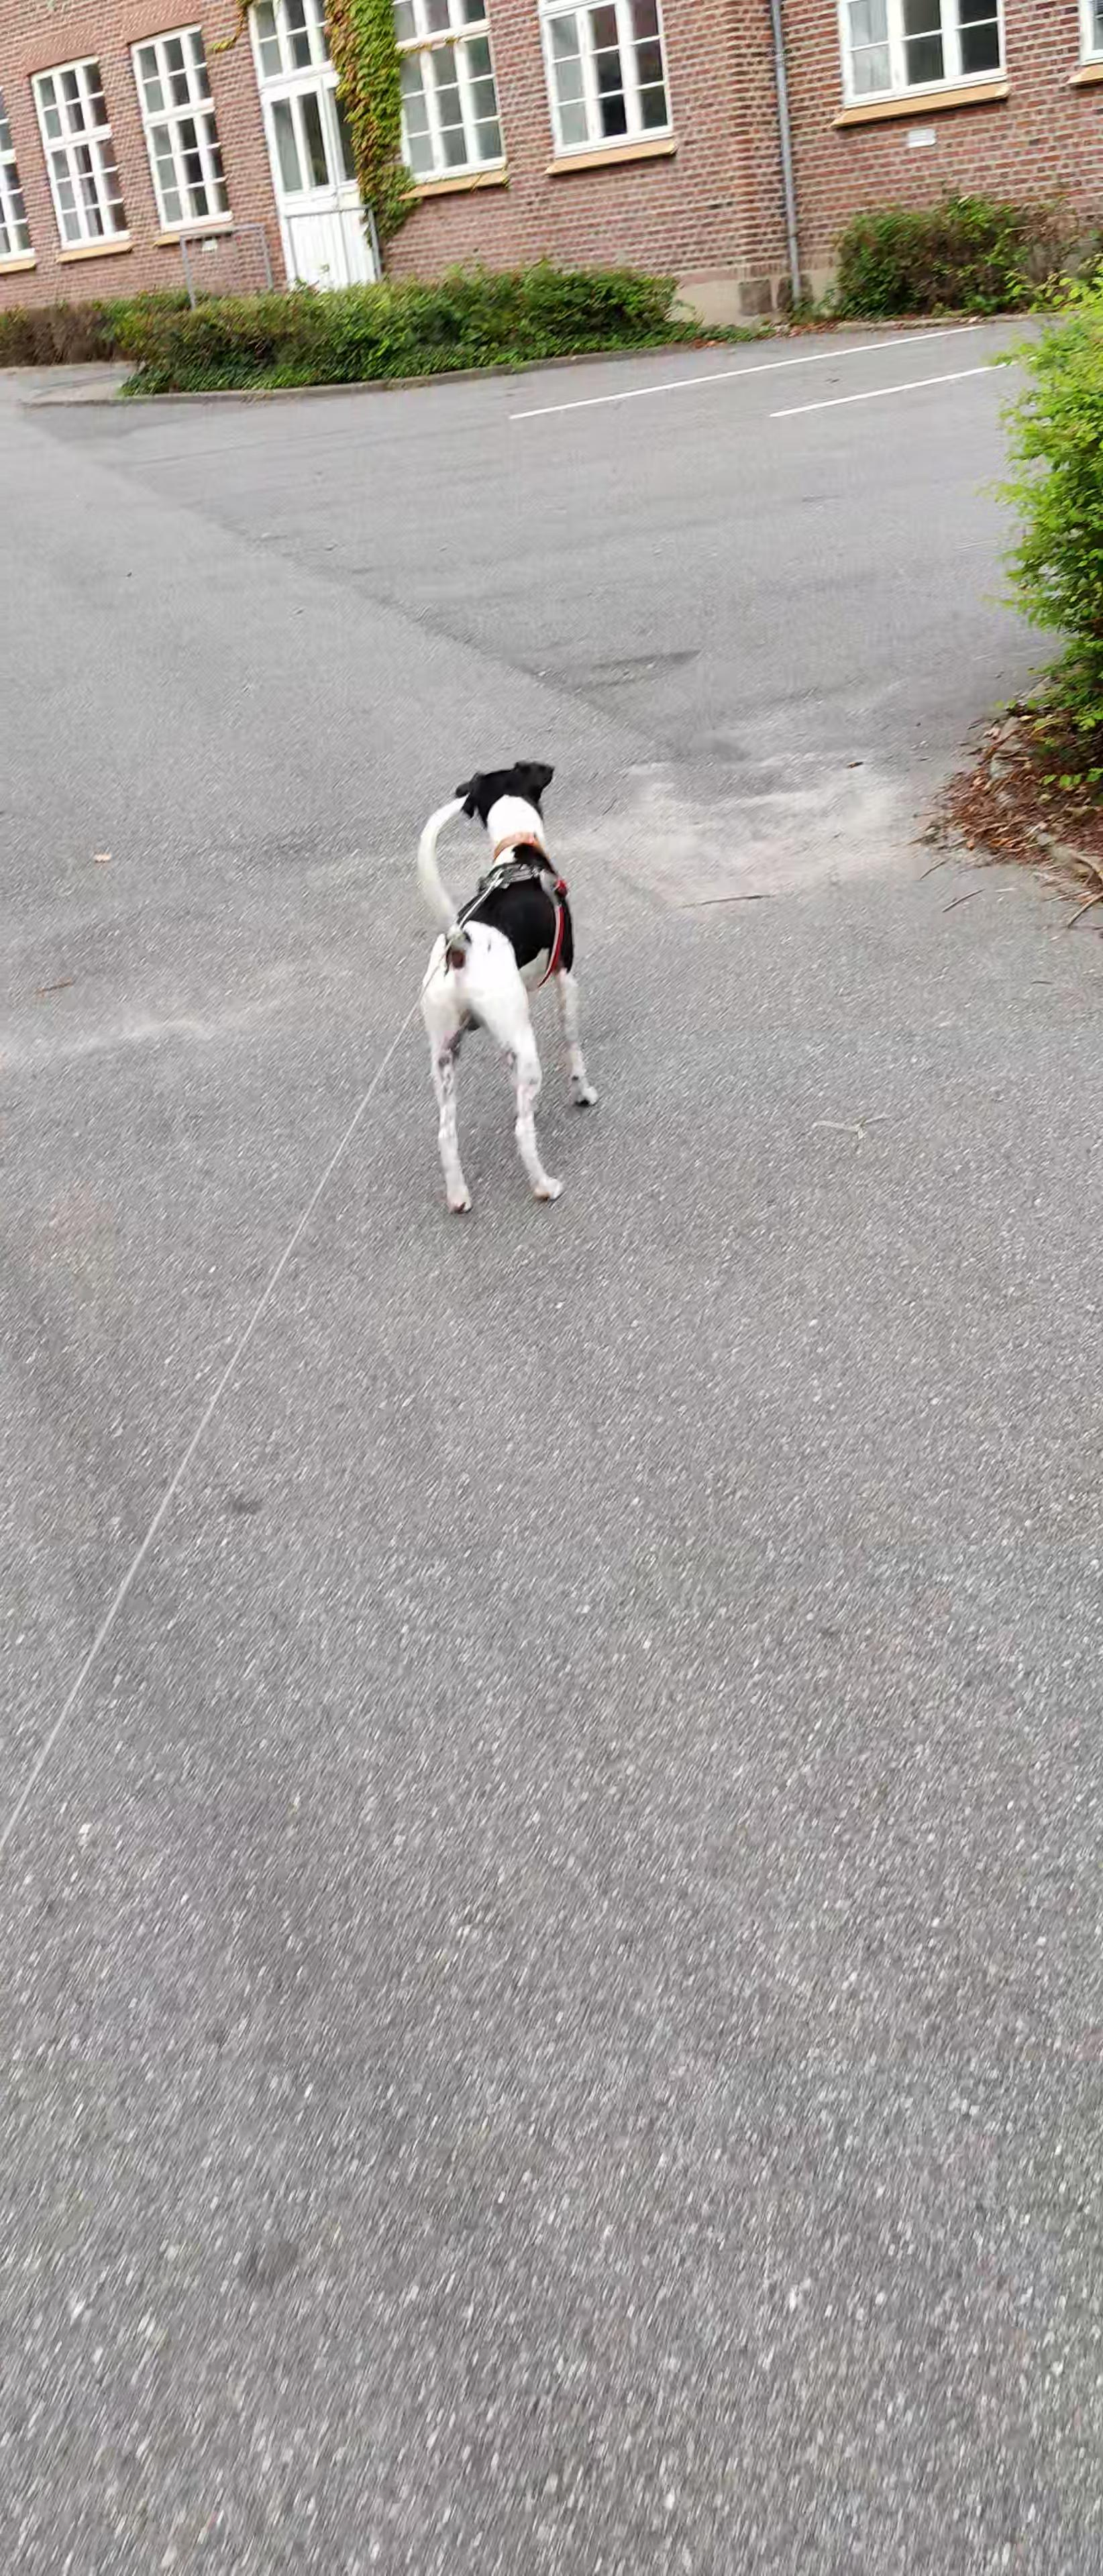Dog: (401, 757, 613, 1219)
